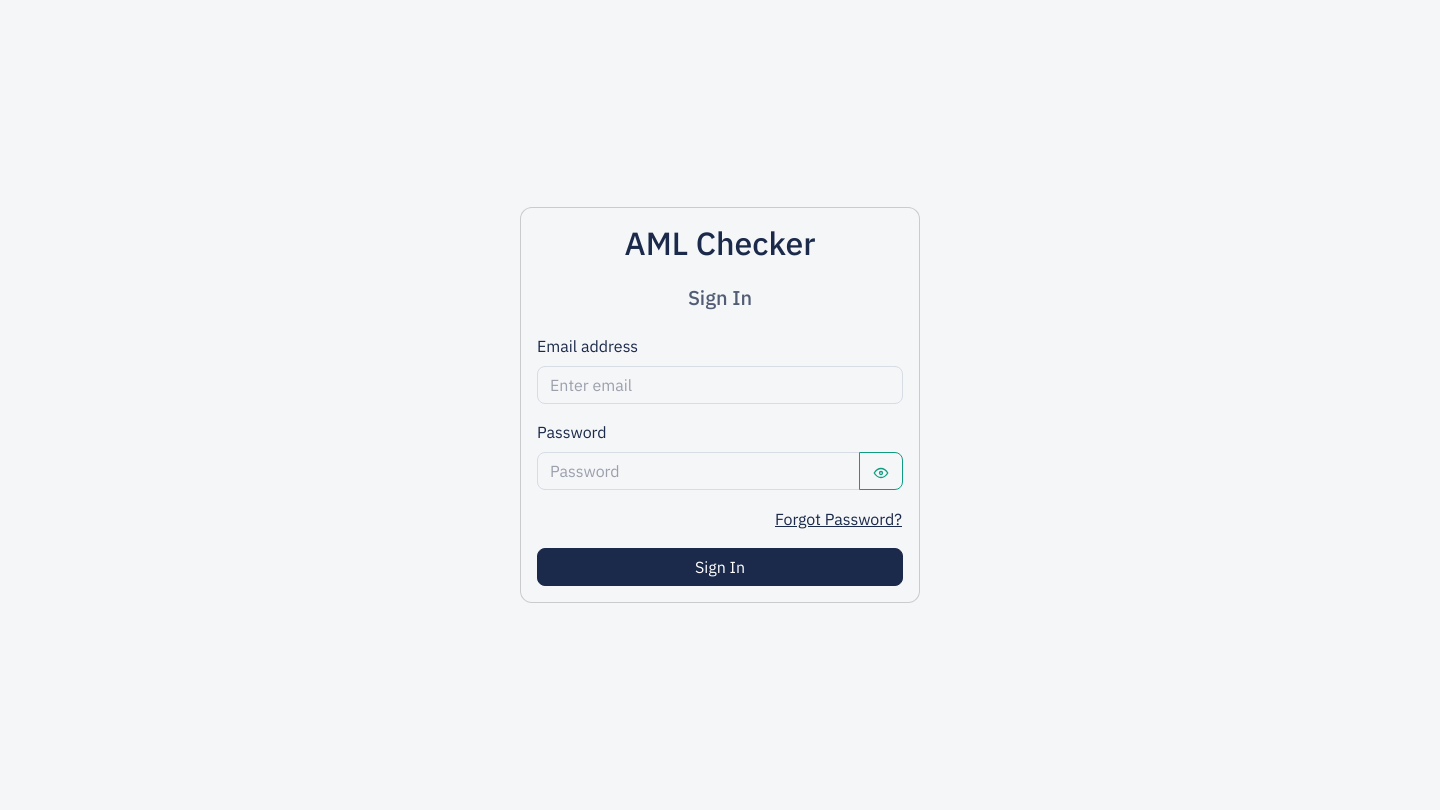
Scenario: LoginPage › opens Forgot Password modal when link is clicked
Step 1. Click the button "Forgot Password?" → (838, 519), box x1=774 y1=506 x2=903 y2=532
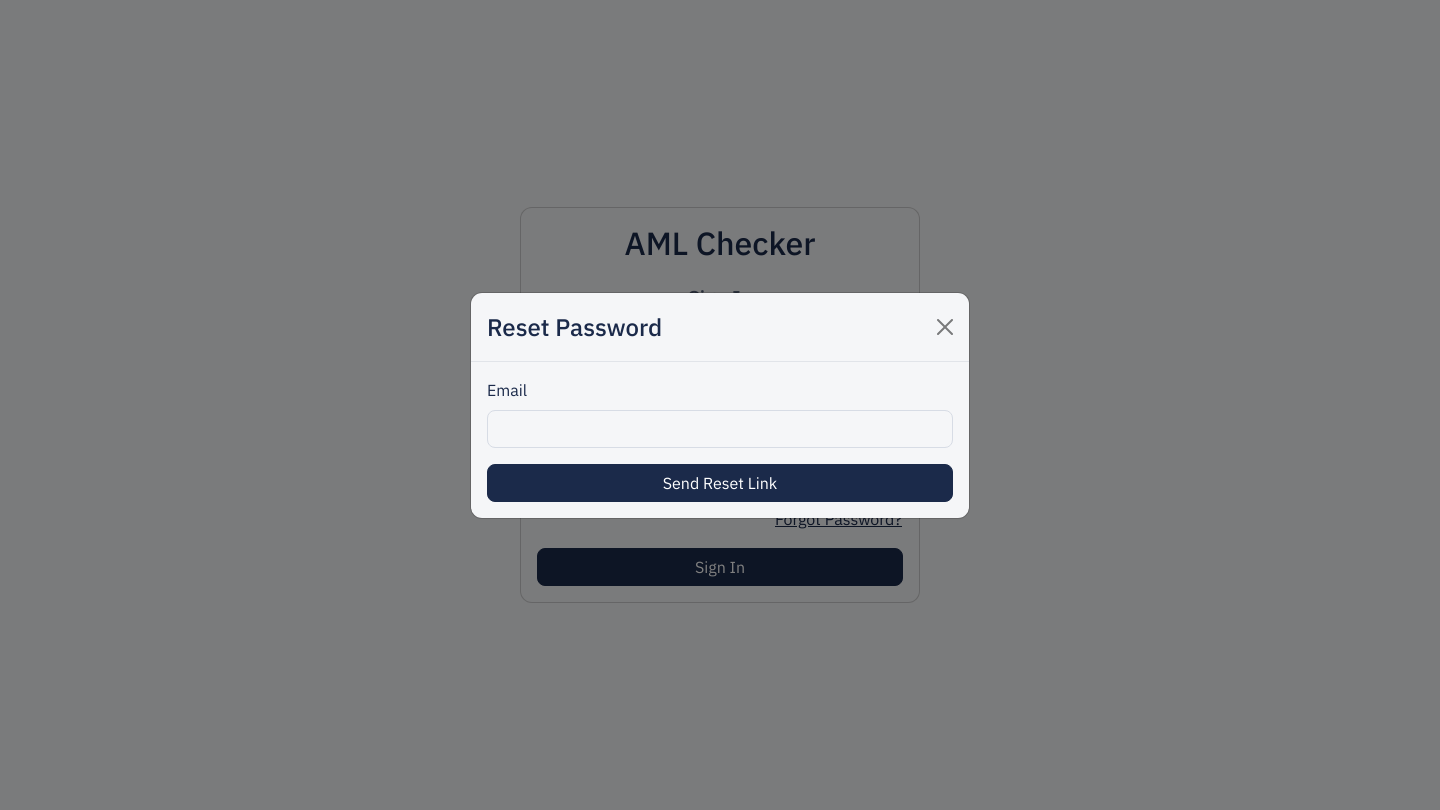
Check: the dialog is shown, box x1=470 y1=292 x2=970 y2=518
Check: the dialog shows "Reset Password", box x1=487 y1=310 x2=662 y2=342
